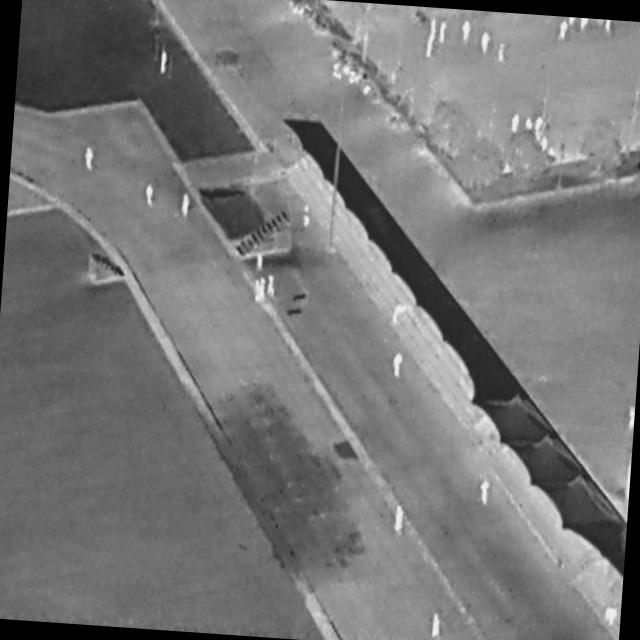person: (391, 351, 404, 378), (394, 506, 405, 537), (84, 147, 96, 174), (480, 480, 492, 507), (302, 204, 313, 231), (145, 184, 156, 209), (267, 275, 278, 300), (481, 32, 492, 57), (181, 194, 191, 220), (559, 21, 570, 43), (258, 277, 268, 301), (627, 406, 636, 432), (439, 22, 449, 45), (426, 36, 436, 59), (160, 51, 169, 76), (432, 614, 441, 639), (511, 114, 520, 137), (535, 115, 544, 137), (253, 280, 261, 304), (462, 21, 471, 42), (429, 19, 438, 40), (498, 44, 506, 63), (526, 117, 535, 133), (605, 20, 614, 35), (541, 136, 549, 152), (581, 18, 590, 30), (569, 18, 576, 28)
